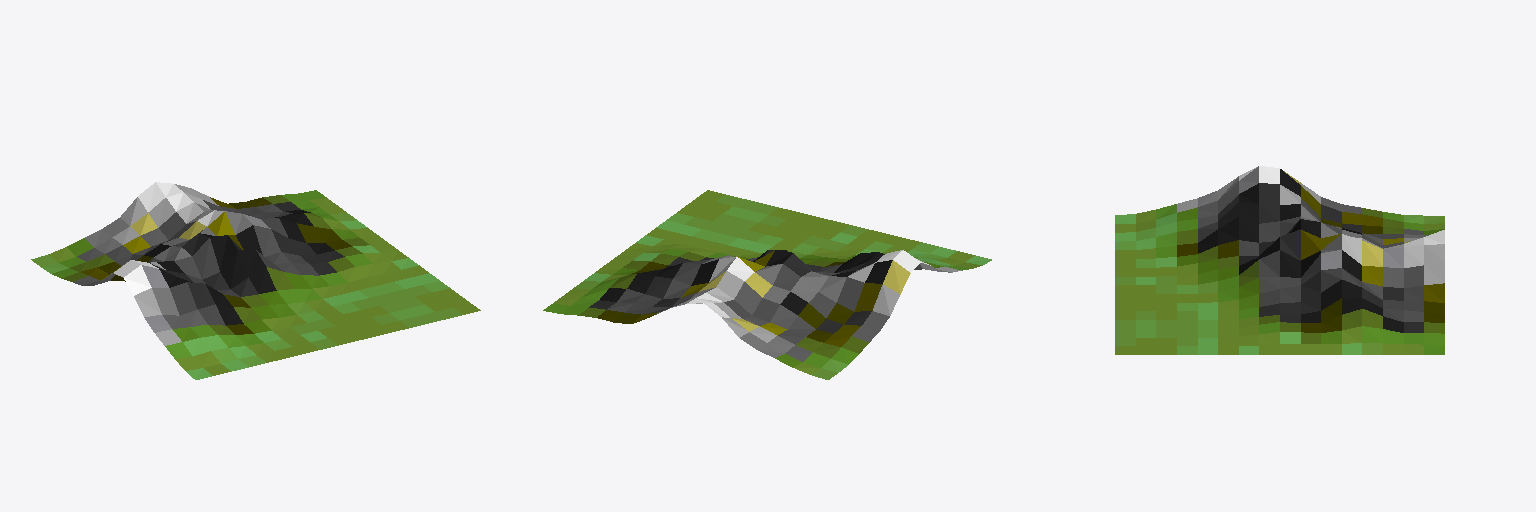
The picture shows the model from 3 angles: view 1: azimuth 30°, elevation 25°; view 2: azimuth 150°, elevation 25°; view 3: azimuth 270°, elevation 25°; orthographic projection.
Parts seen in each view (by area): view 1: mountains9; view 2: mountains9; view 3: mountains9.
Part boxes in pixels (x1,y1,x2,y2): mountains9: (31,182,480,379); mountains9: (543,190,991,379); mountains9: (1115,166,1444,354).
Bounding box in the file's own units: 1 × 0.1956 × 1.
1 materials, 1 textured.